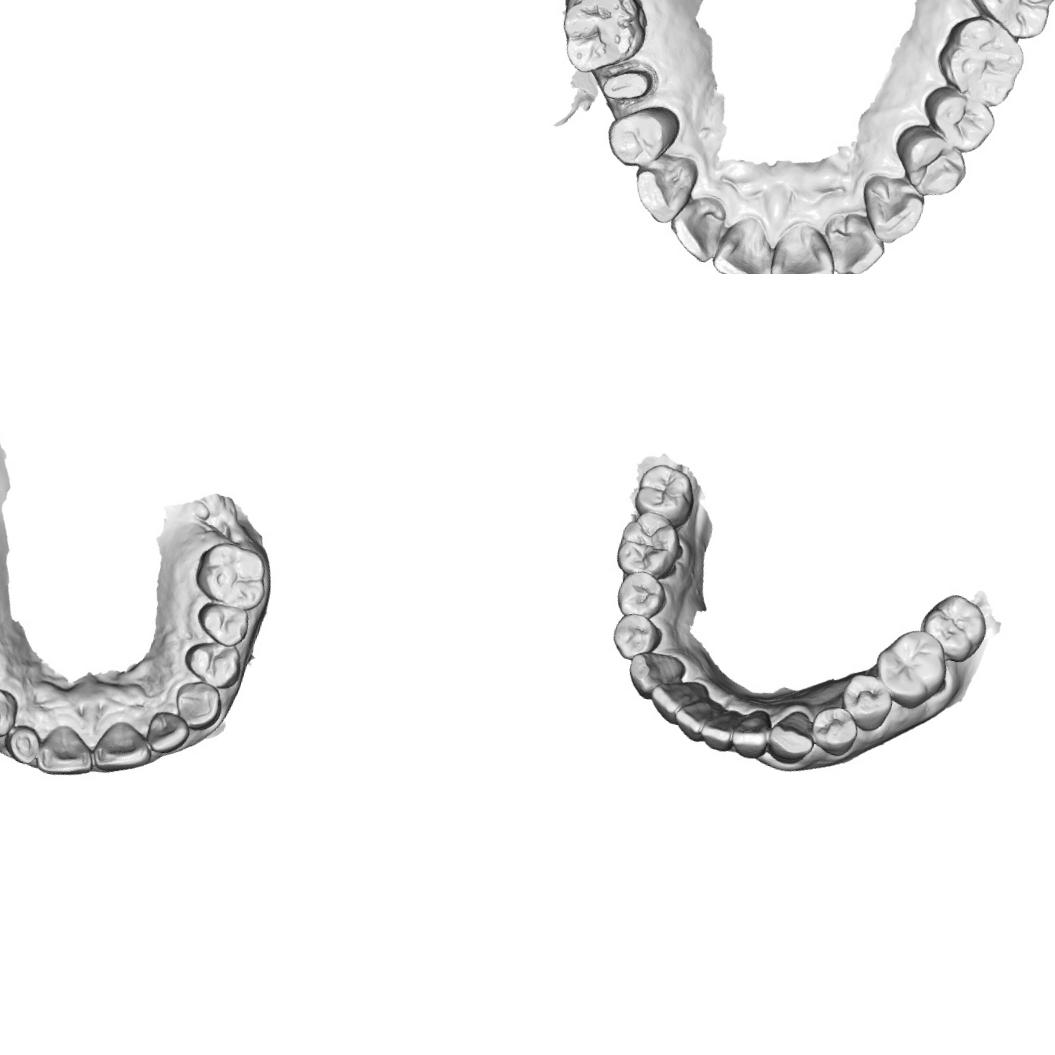canine: (626, 146, 704, 230), (852, 168, 928, 250), (621, 646, 689, 706), (761, 703, 820, 770), (168, 676, 228, 735), (0, 681, 25, 745)
crown: (596, 55, 659, 113)
incisor: (662, 188, 736, 268), (86, 708, 161, 782), (706, 207, 786, 274), (815, 205, 892, 274), (31, 716, 107, 784), (765, 214, 843, 274), (645, 670, 712, 728), (726, 702, 774, 764), (141, 707, 196, 760), (666, 688, 716, 746), (1, 716, 53, 770), (694, 702, 744, 757)
molar: (929, 8, 1038, 114), (550, 0, 653, 86), (867, 621, 956, 716), (188, 535, 274, 616), (914, 586, 994, 668), (609, 504, 689, 585), (629, 458, 703, 528), (958, 0, 1055, 46)
premolar: (884, 119, 975, 207), (599, 94, 686, 178), (913, 80, 1003, 160), (834, 666, 899, 736), (178, 634, 246, 693), (190, 593, 256, 651), (610, 566, 674, 623), (805, 700, 865, 760), (606, 608, 666, 667)
